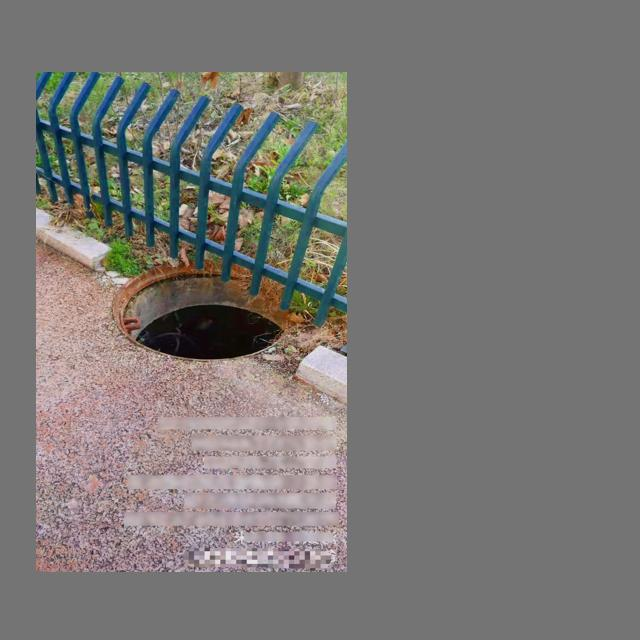lose: (108, 261, 298, 363)
